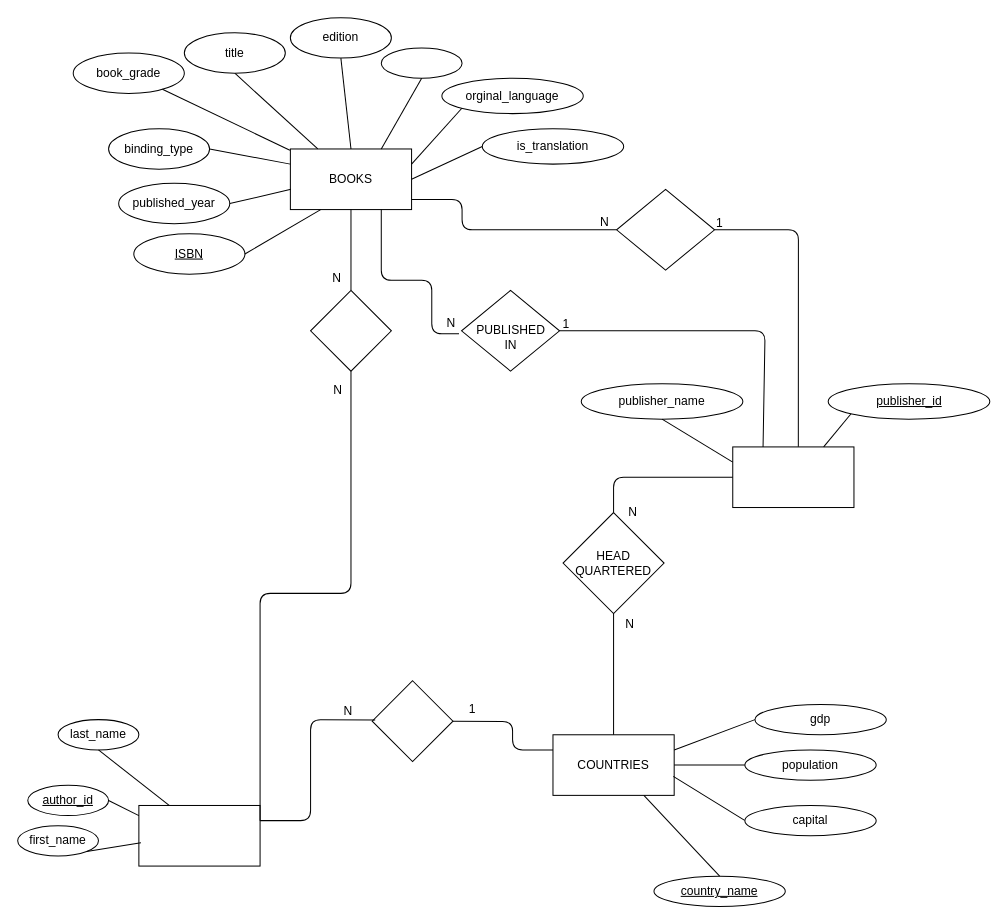
This 1008x924 diagram has some shape labels left out. The shapes that lost their labels are listed below. From the top down, each one's centre as x and y in pixels, then its label:
At pixel 421 62: "synopsis".
At pixel 665 229: "PUBLISHED".
At pixel 350 330: "WROTE".
At pixel 793 477: "PUBLISHERS".
At pixel 412 721: "FROM".
At pixel 199 835: "AUTHORS".
